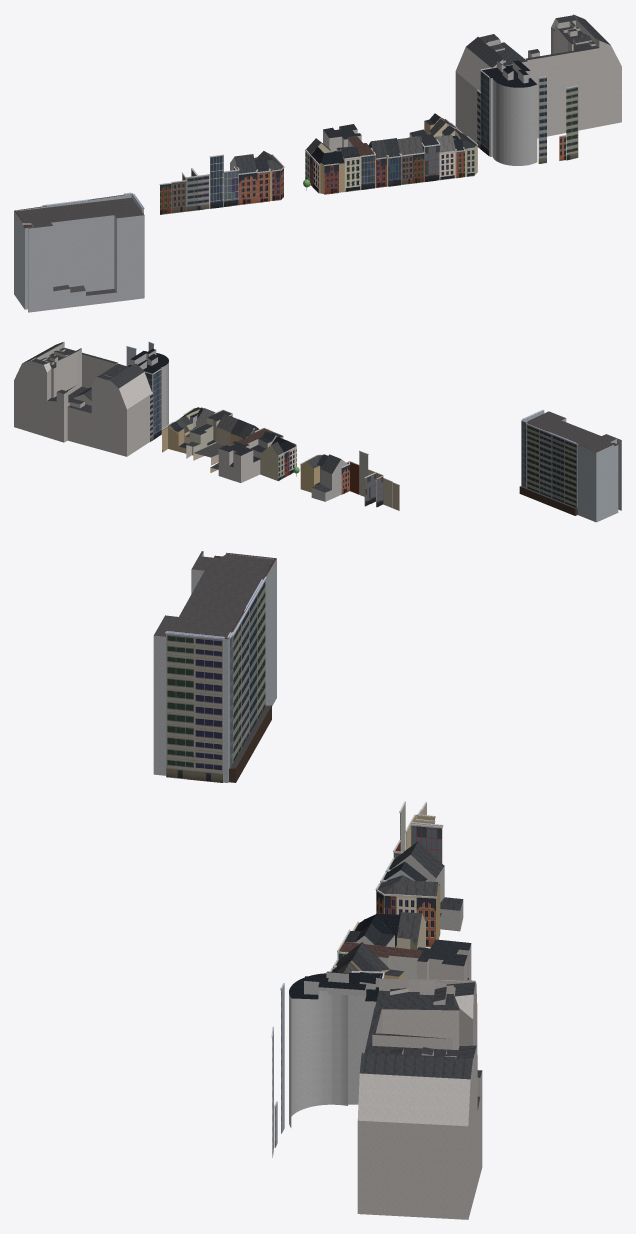
3 views of the same model, one above another, from view 1: azimuth 30°, elevation 25°; view 2: azimuth 150°, elevation 25°; view 3: azimuth 270°, elevation 25° (orthographic). The views are drawn at different scales.
Parts seen in each view (by area): view 1: bldg_6006381364, bldg_6004046747, bldg_6006408372, bldg_6006381364_roof, bldg_6004046747_roof, bldg_6000302432, bldg_6004046814_facade3, bldg_6006408372_facade0, bldg_6004046814_facade5, bldg_6004517822_facade0, bldg_6004518115_facade1, bldg_6006408372_roof (+11 smaller); view 2: bldg_6004046747, bldg_6000302432_facade7, bldg_6000302432, bldg_6004046747_roof, bldg_6006381364_roof, bldg_6006381357, bldg_6006408372, bldg_6004046077, bldg_6006408372_facade0, bldg_6006381357_roof, bldg_6004046315, bldg_6006381301 (+14 smaller); view 3: bldg_6004046747, bldg_6006408372, bldg_6000302432_facade9, bldg_6004046747_roof, bldg_6006381364_roof, bldg_6000302432_facade7, bldg_6000302432, bldg_6006381364, bldg_6006381357_roof, bldg_6006408372_roof, bldg_6006381357, bldg_6004517920_facade1 (+3 smaller).
Boxes of the visible parts, x1,y1,x2,y2 form: bldg_6006381364: (24,215,144,312); bldg_6004046747: (455,14,621,143); bldg_6006408372: (489,61,537,165); bldg_6006381364_roof: (16,197,144,295); bldg_6004046747_roof: (466,15,610,67); bldg_6000302432: (14,194,143,309); bldg_6004046814_facade3: (566,85,578,160); bldg_6006408372_facade0: (480,70,489,155); bldg_6004046814_facade5: (538,76,546,163); bldg_6004517822_facade0: (209,154,223,208); bldg_6004518115_facade1: (401,152,425,184); bldg_6006408372_roof: (482,60,536,87); bldg_6004046747: (14,341,152,456); bldg_6000302432_facade7: (525,423,578,507); bldg_6000302432: (521,411,618,522); bldg_6004046747_roof: (23,342,144,413); bldg_6006381364_roof: (527,411,621,451); bldg_6006381357: (218,435,282,482); bldg_6006408372: (130,350,168,433); bldg_6004046077: (311,459,347,501); bldg_6006408372_facade0: (152,368,161,439); bldg_6006381357_roof: (219,431,282,467); bldg_6004046315: (260,445,277,480); bldg_6006381301: (162,426,186,453); bldg_6004046747: (357,978,482,1219); bldg_6006408372: (289,972,382,1127); bldg_6000302432_facade9: (165,632,224,782); bldg_6004046747_roof: (359,982,482,1110); bldg_6006381364_roof: (154,551,273,637); bldg_6000302432_facade7: (232,576,266,762); bldg_6000302432: (166,553,276,782); bldg_6006381364: (153,552,204,775); bldg_6006381357_roof: (344,924,471,980); bldg_6006408372_roof: (289,971,382,1001); bldg_6006381357: (347,935,471,980); bldg_6004517920_facade1: (396,894,436,947).
Size of the model in its own units: 305 by 39.46 by 80.27.
70 materials, 33 textured.
